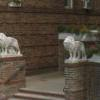Statue: (55, 30, 89, 65)
